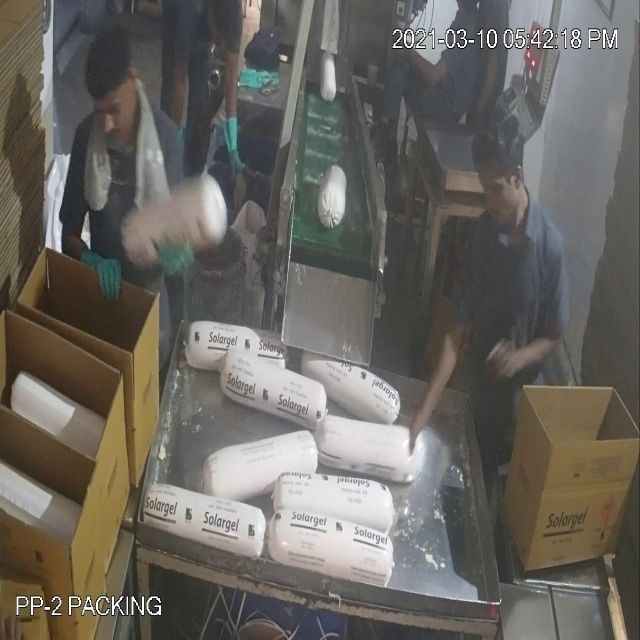Sin_guantes: (394, 308, 472, 460), (481, 326, 572, 404), (392, 34, 456, 103), (470, 43, 506, 128)
